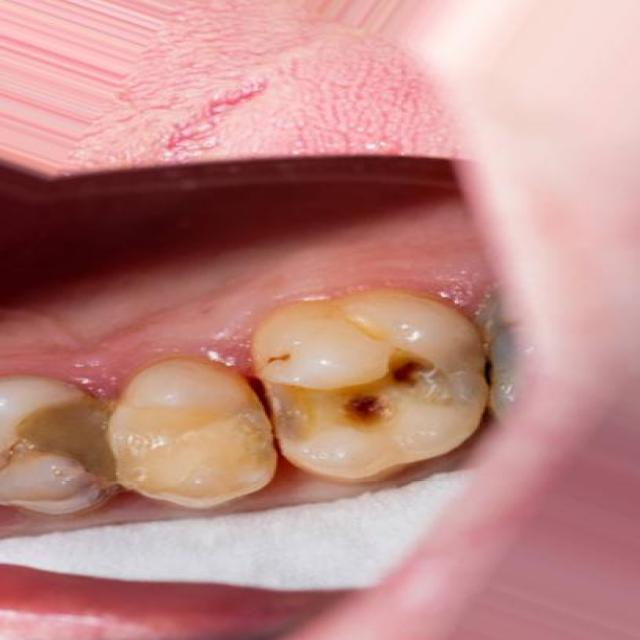caries: (267, 326, 473, 449), (3, 382, 155, 500)
